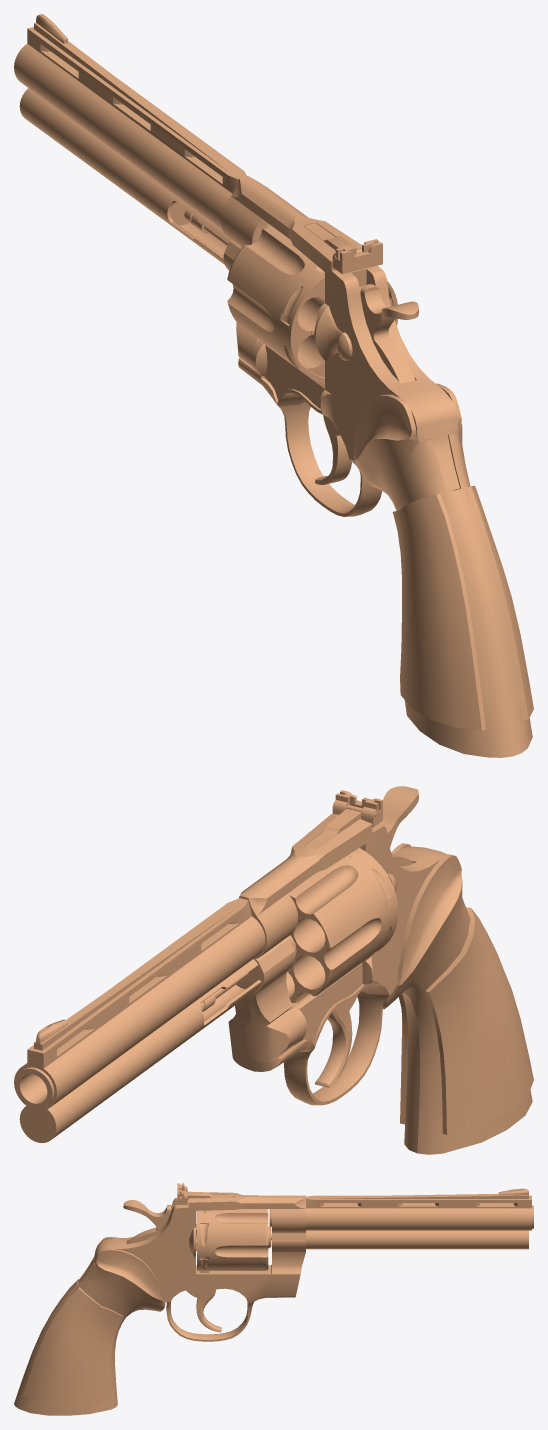
File: python.fbx
The picture shows the model from 3 angles, top to bottom: view 1: azimuth 30°, elevation 25°; view 2: azimuth 150°, elevation 25°; view 3: azimuth 270°, elevation 25°; orthographic projection. The views are drawn at different scales.
Parts seen in each view (by area): view 1: grip_low.001, body_low.001, barrel_low.001, wheel_low.001, Hammer_low.001, sight_low.001, slot_low.001, trigger_low.001, wheel_rot_low.001; view 2: grip_low.001, barrel_low.001, body_low.001, wheel_low.001, wheel_rot_low.001, trigger_low.001, Hammer_low.001, sight_low.001, sight_fixed_low.001; view 3: grip_low.001, barrel_low.001, body_low.001, wheel_low.001, Hammer_low.001, trigger_low.001.
Part boxes in pixels (x1,y1,x2,y2): grip_low.001: (354,383,533,757); body_low.001: (221,176,459,516); barrel_low.001: (14,14,246,264); wheel_low.001: (227,225,397,382); Hammer_low.001: (360,284,418,383); sight_low.001: (332,239,382,274); slot_low.001: (314,303,343,361); trigger_low.001: (315,415,351,484); wheel_rot_low.001: (223,240,258,367); grip_low.001: (382,843,533,1154); barrel_low.001: (14,898,265,1143); body_low.001: (228,814,447,1105); wheel_low.001: (286,848,398,1002); wheel_rot_low.001: (239,937,301,1061); trigger_low.001: (315,994,357,1087); Hammer_low.001: (379,786,418,866); sight_low.001: (332,790,382,827); sight_fixed_low.001: (304,805,362,849); grip_low.001: (14,1236,165,1415); barrel_low.001: (306,1188,533,1249); body_low.001: (78,1192,305,1341); wheel_low.001: (197,1209,268,1270); Hammer_low.001: (123,1200,171,1244); trigger_low.001: (186,1289,221,1332).
Bounding box in the file's own units: 3.76 × 13.26 × 28.94.
